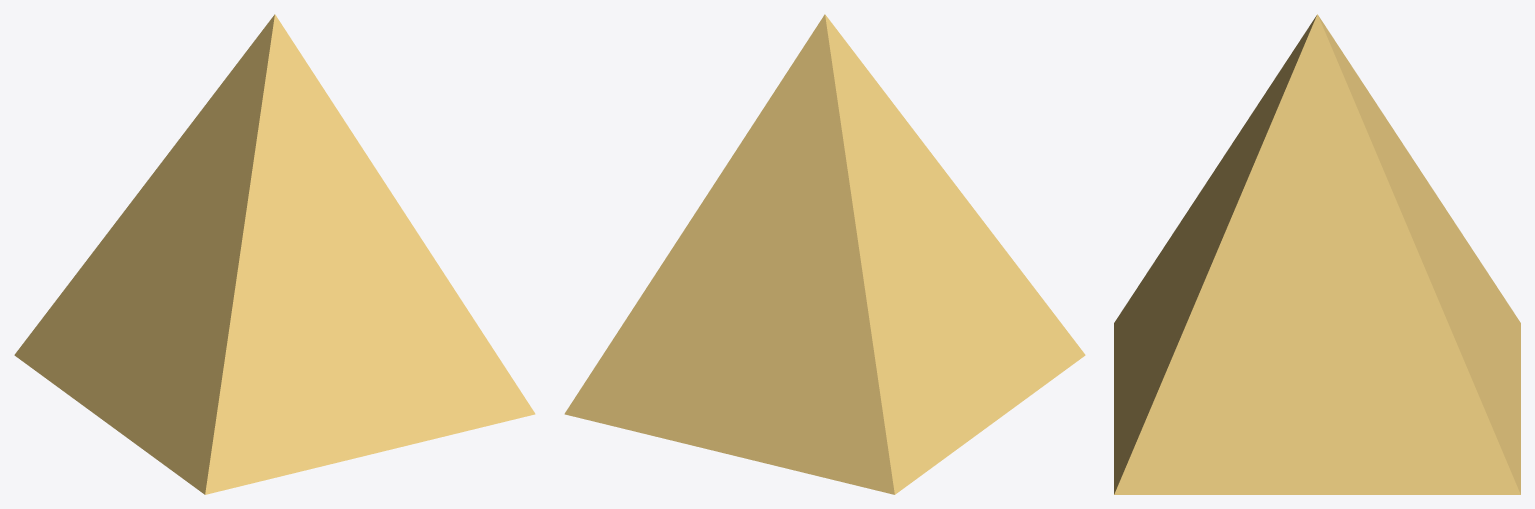
3 renders of one model, left to right at view 1: azimuth 30°, elevation 25°; view 2: azimuth 150°, elevation 25°; view 3: azimuth 270°, elevation 25°, orthographic. The views are drawn at different scales.
Parts seen in each view (by area): view 1: Pyramid; view 2: Pyramid; view 3: Pyramid.
Part boxes in pixels (<box>): Pyramid: <box>14,14,535,494</box>; Pyramid: <box>564,14,1085,494</box>; Pyramid: <box>1114,14,1520,494</box>.
Size of the model in its own units: 1.4 by 1.5 by 1.4.
